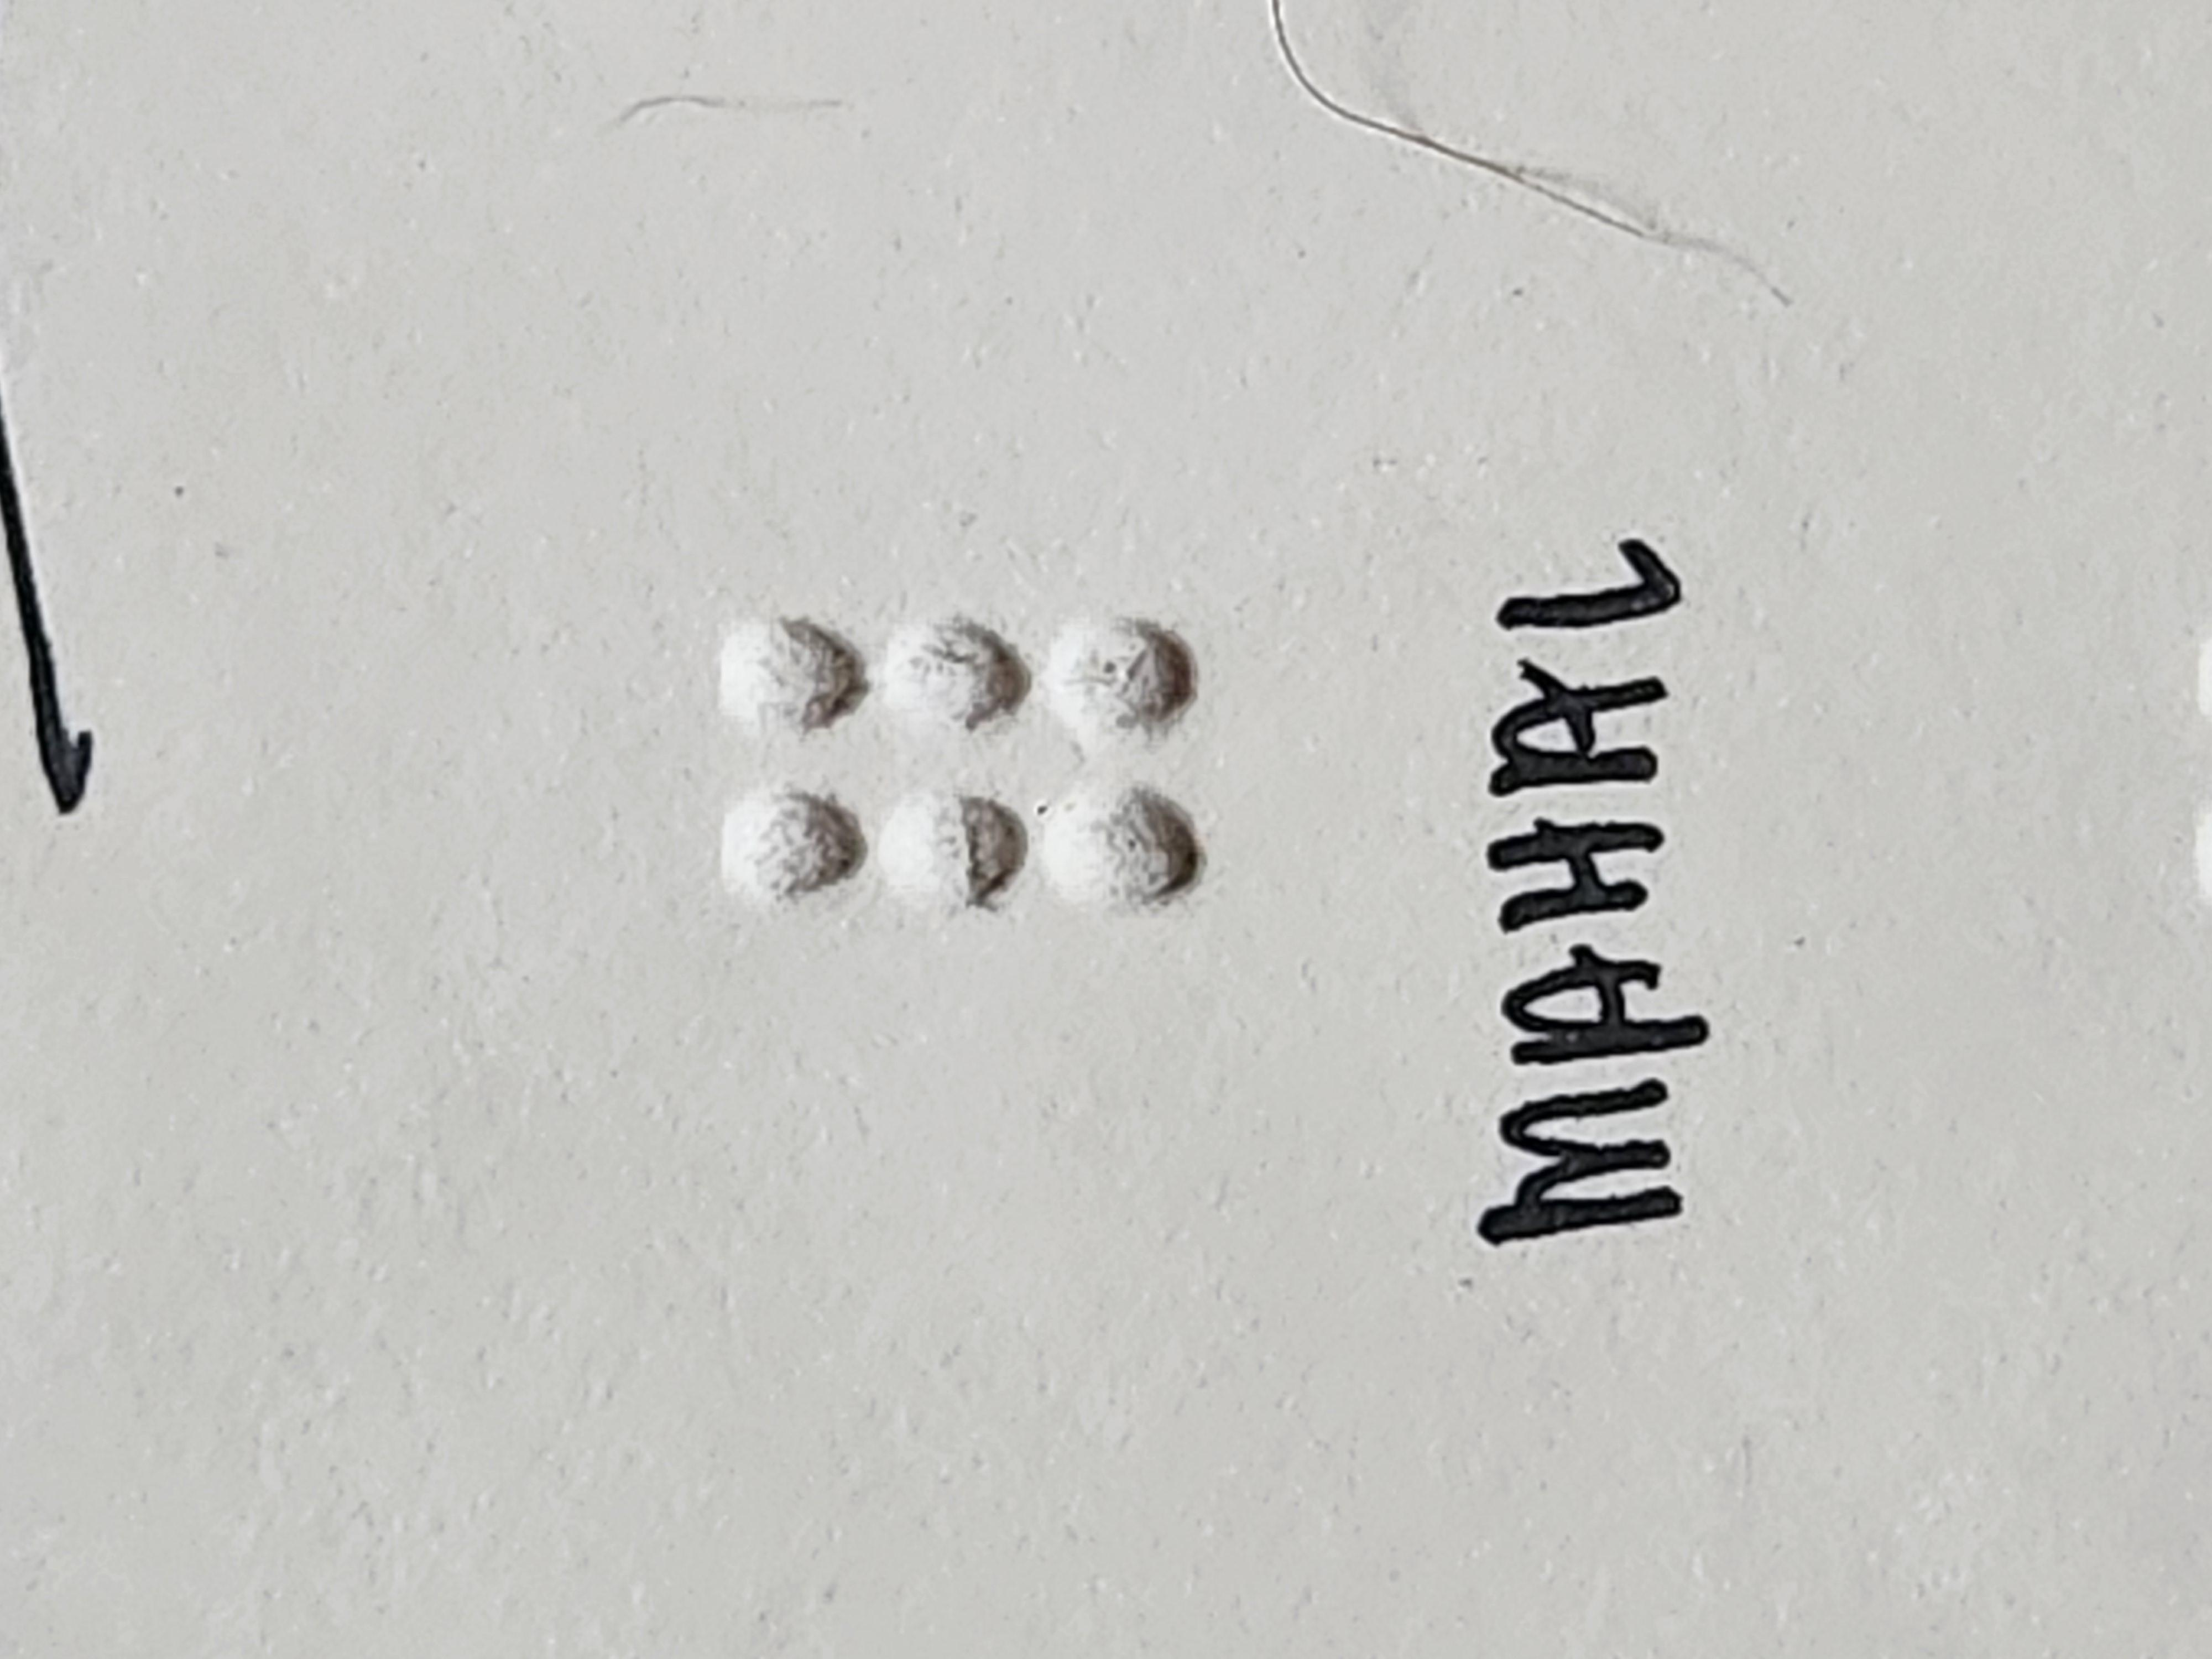one_cell_part_word_mahal: (1005, 535, 1393, 904)
